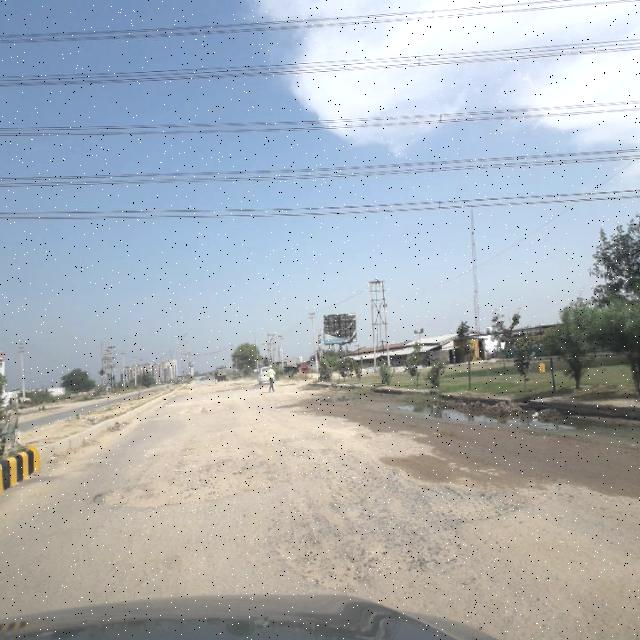D40: (87, 411, 559, 584)
